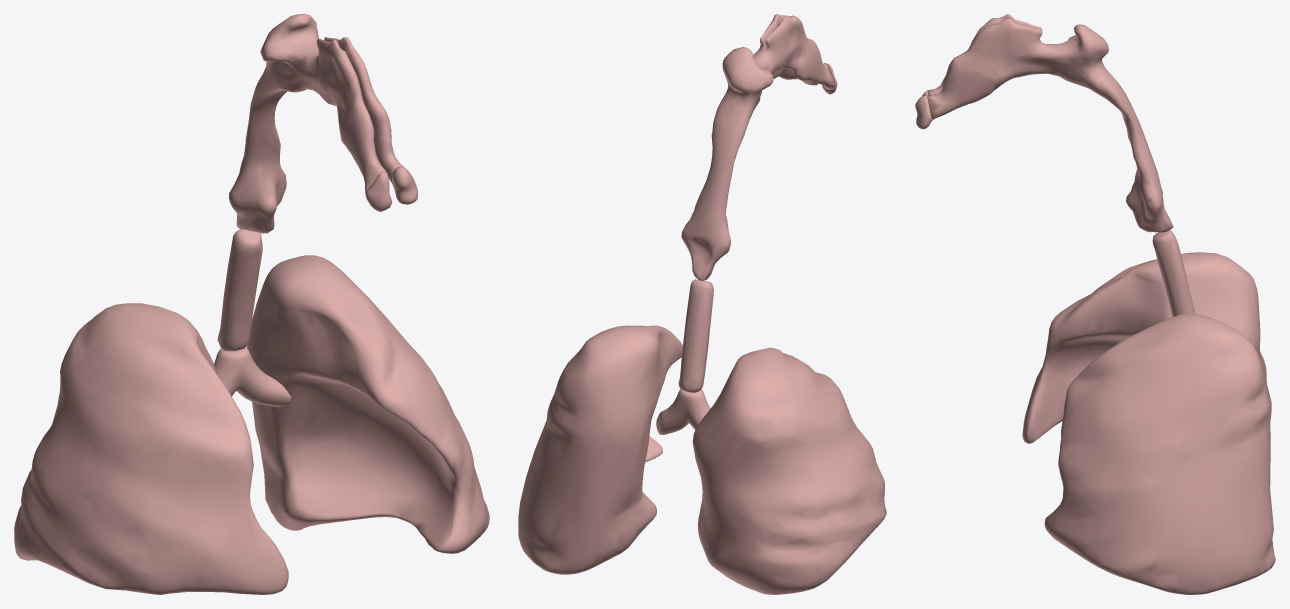
The model's file is pediatric_neonate_male.respiratory.LOD0.glb.
3 views of the same model, side by side, from view 1: azimuth 30°, elevation 25°; view 2: azimuth 150°, elevation 25°; view 3: azimuth 270°, elevation 25° (orthographic). The views are drawn at different scales.
Visible parts, largest first — view 1: PEDIATRIC.NEONATE.MALE.RESPIRATORY.LUNG.R, PEDIATRIC.NEONATE.MALE.RESPIRATORY.LUNG.L, PEDIATRIC.NEONATE.MALE.RESPIRATORY.ET2, PEDIATRIC.NEONATE.MALE.RESPIRATORY.TRACHEA, PEDIATRIC.NEONATE.MALE.RESPIRATORY.BB1, PEDIATRIC.NEONATE.MALE.RESPIRATORY.ET1; view 2: PEDIATRIC.NEONATE.MALE.RESPIRATORY.LUNG.R, PEDIATRIC.NEONATE.MALE.RESPIRATORY.LUNG.L, PEDIATRIC.NEONATE.MALE.RESPIRATORY.ET2, PEDIATRIC.NEONATE.MALE.RESPIRATORY.TRACHEA, PEDIATRIC.NEONATE.MALE.RESPIRATORY.BB1; view 3: PEDIATRIC.NEONATE.MALE.RESPIRATORY.LUNG.L, PEDIATRIC.NEONATE.MALE.RESPIRATORY.LUNG.R, PEDIATRIC.NEONATE.MALE.RESPIRATORY.ET2, PEDIATRIC.NEONATE.MALE.RESPIRATORY.TRACHEA.
Part boxes in pixels (x1,y1,x2,y2): PEDIATRIC.NEONATE.MALE.RESPIRATORY.LUNG.R: (14,303,288,594); PEDIATRIC.NEONATE.MALE.RESPIRATORY.LUNG.L: (247,255,489,553); PEDIATRIC.NEONATE.MALE.RESPIRATORY.ET2: (229,14,405,233); PEDIATRIC.NEONATE.MALE.RESPIRATORY.TRACHEA: (217,229,262,351); PEDIATRIC.NEONATE.MALE.RESPIRATORY.BB1: (214,347,291,406); PEDIATRIC.NEONATE.MALE.RESPIRATORY.ET1: (365,166,417,211); PEDIATRIC.NEONATE.MALE.RESPIRATORY.LUNG.R: (692,347,886,594); PEDIATRIC.NEONATE.MALE.RESPIRATORY.LUNG.L: (518,325,682,574); PEDIATRIC.NEONATE.MALE.RESPIRATORY.ET2: (681,14,835,280); PEDIATRIC.NEONATE.MALE.RESPIRATORY.TRACHEA: (678,279,713,392); PEDIATRIC.NEONATE.MALE.RESPIRATORY.BB1: (656,389,710,434); PEDIATRIC.NEONATE.MALE.RESPIRATORY.LUNG.L: (1044,313,1275,594); PEDIATRIC.NEONATE.MALE.RESPIRATORY.LUNG.R: (1022,252,1271,443); PEDIATRIC.NEONATE.MALE.RESPIRATORY.ET2: (927,14,1173,232); PEDIATRIC.NEONATE.MALE.RESPIRATORY.TRACHEA: (1152,230,1195,316).
Bounding box in the file's own units: 0.0956 × 0.1335 × 0.0873.
